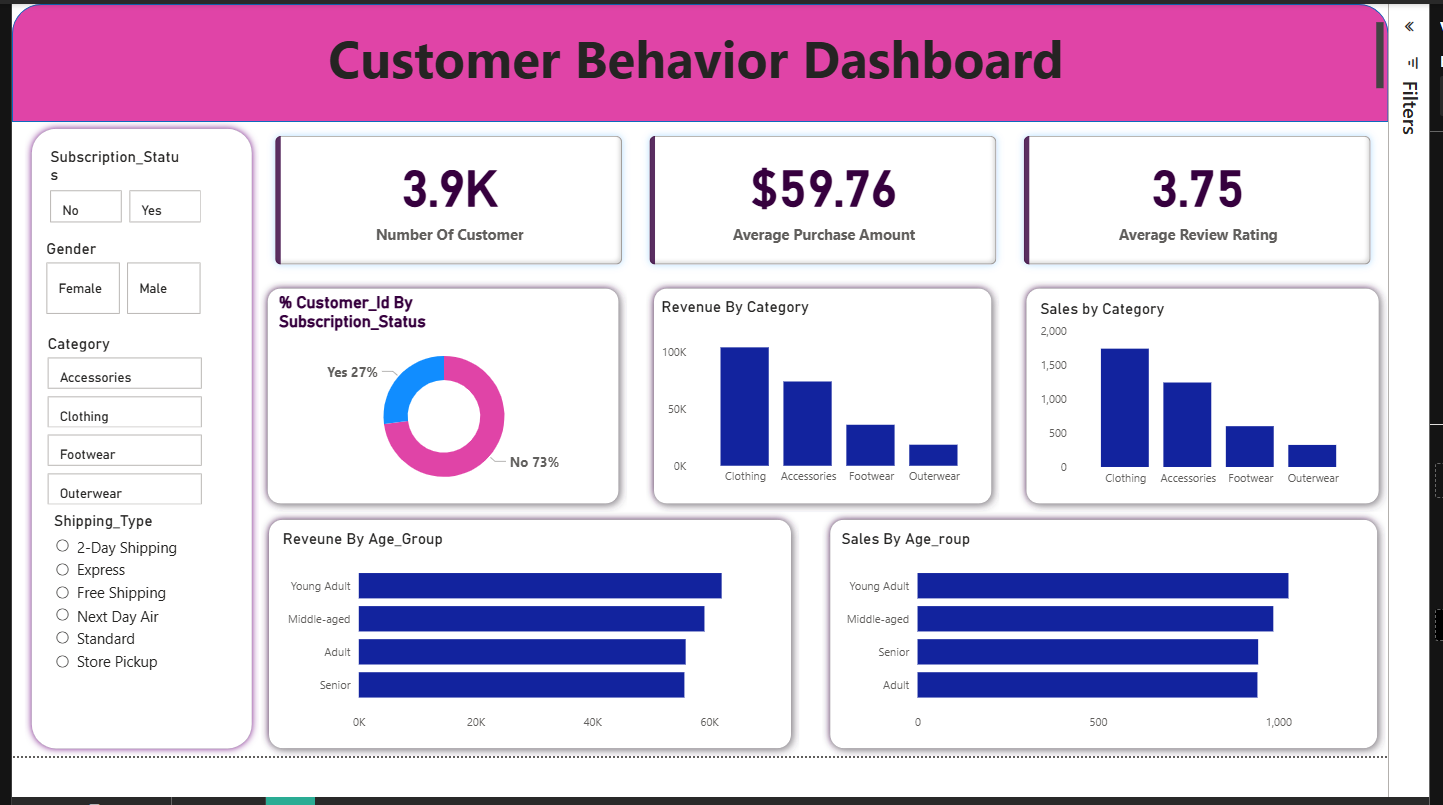

Layout of this report page (visuals, bound fields, positions):
{"tool":"powerbi","page":{"name":"Page 1","canvas":[1500,820],"ordinal":0},"visuals":[{"type":"cardVisual","fields":{"Data":["customer_behaviour customer.Number Of Customer","customer_behaviour customer.Average Of Purchase Amount","customer_behaviour customer.Average Of Rating"]},"box":[271.8,128.6,1228.6,172.1],"z":0},{"type":"shape","box":[0,0,1500.3,128.6],"z":1000},{"type":"textbox","box":[0,14.5,1500.3,83.6],"z":2000},{"type":"shape","box":[269.8,300.7,400.4,252.5],"z":3000},{"type":"donutChart","title":"% Customer_Id By Subscription_Status","fields":{"Category":["customer_behaviour customer.subscription_status"],"Y":["CountNonNull(customer_behaviour customer.customer_id)"]},"box":[286.2,315.2,369.9,225.1],"z":4000},{"type":"shape","box":[690.3,300.7,385.9,252.5],"z":5000},{"type":"shape","box":[1096.4,300.7,402,252.5],"z":6000},{"type":"clusteredColumnChart","title":"Revenue By Category","fields":{"Category":["customer_behaviour customer.category"],"Y":["Sum(customer_behaviour customer.purchase_amount)"]},"box":[702.5,320,362.5,213.3],"z":7000},{"type":"clusteredColumnChart","title":"Sales by Category","fields":{"Category":["customer_behaviour customer.category"],"Y":["CountNonNull(customer_behaviour customer.customer_id)"]},"box":[1116.7,321.1,362.2,213.3],"z":8000},{"type":"advancedSlicerVisual","fields":{"Values":["customer_behaviour customer.subscription_status"]},"box":[32.9,157.1,218.6,100],"z":9000},{"type":"shape","box":[14.3,128.6,255.7,691.4],"z":10000},{"type":"advancedSlicerVisual","title":"Subscription_Status","fields":{"Values":["customer_behaviour customer.subscription_status"]},"box":[37.1,157.1,174.3,87.1],"z":11000},{"type":"advancedSlicerVisual","title":"Gender","fields":{"Values":["customer_behaviour customer.gender"]},"box":[32.9,255.7,178.6,87.1],"z":12000},{"type":"advancedSlicerVisual","title":"Category","fields":{"Values":["customer_behaviour customer.category"]},"box":[34.3,360,178.6,192.9],"z":13000},{"type":"listSlicer","title":"Shipping_Type","fields":{"Values":["customer_behaviour customer.shipping_type"]},"box":[41.4,552.9,170,237.1],"z":14000},{"type":"clusteredBarChart","fields":{"Y":["Sum(customer_behaviour customer.purchase_amount)"],"Category":["customer_behaviour customer.age_group"]},"box":[290,572.9,547.1,228.6],"z":15000},{"type":"shape","box":[882.9,552.9,614.3,267.1],"z":16000},{"type":"shape","box":[271.4,552.9,587.1,267.1],"z":17000},{"type":"clusteredBarChart","title":"Reveune By Age_Group","fields":{"Y":["Sum(customer_behaviour customer.purchase_amount)"],"Category":["customer_behaviour customer.age_group"]},"box":[290,572.9,548.6,228.6],"z":18000},{"type":"clusteredBarChart","title":"Sales By Age_roup","fields":{"Y":["CountNonNull(customer_behaviour customer.customer_id)"],"Category":["customer_behaviour customer.age_group"]},"box":[900,572.9,580,228.6],"z":19000}]}

Visuals, with their boxes on the page's 1500x820 design canvas (x1, y1, x2, y2). These are canvas units, not pixel positions in the 1443x805 screenshot, which may show the page scaled, cropped or inside an application window:
cardVisual - customer_behaviour customer.Number Of Customer x customer_behaviour customer.Average Of Purchase Amount: <box>272,129,1500,301</box>
shape: <box>0,0,1500,129</box>
textbox: <box>0,14,1500,98</box>
shape: <box>270,301,670,553</box>
"% Customer_Id By Subscription_Status" donutChart: <box>286,315,656,540</box>
shape: <box>690,301,1076,553</box>
shape: <box>1096,301,1498,553</box>
"Revenue By Category" clusteredColumnChart: <box>702,320,1065,533</box>
"Sales by Category" clusteredColumnChart: <box>1117,321,1479,534</box>
advancedSlicerVisual - customer_behaviour customer.subscription_status: <box>33,157,252,257</box>
shape: <box>14,129,270,820</box>
"Subscription_Status" advancedSlicerVisual: <box>37,157,211,244</box>
"Gender" advancedSlicerVisual: <box>33,256,212,343</box>
"Category" advancedSlicerVisual: <box>34,360,213,553</box>
"Shipping_Type" listSlicer: <box>41,553,211,790</box>
clusteredBarChart - Sum(customer_behaviour customer.purchase_amount) x customer_behaviour customer.age_group: <box>290,573,837,802</box>
shape: <box>883,553,1497,820</box>
shape: <box>271,553,858,820</box>
"Reveune By Age_Group" clusteredBarChart: <box>290,573,839,802</box>
"Sales By Age_roup" clusteredBarChart: <box>900,573,1480,802</box>
